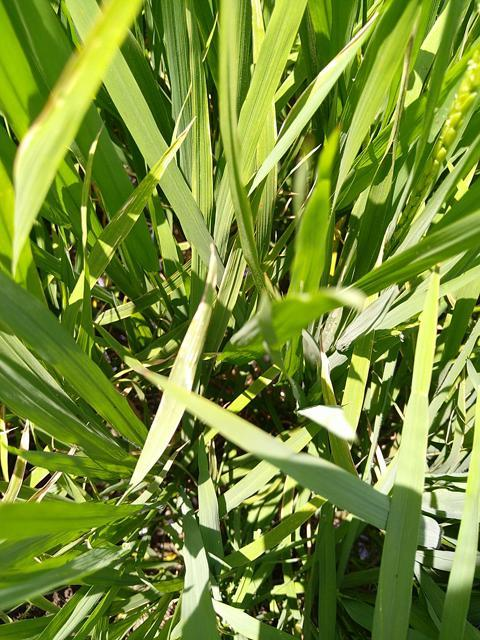Leaf Blight: (119, 242, 219, 503)
